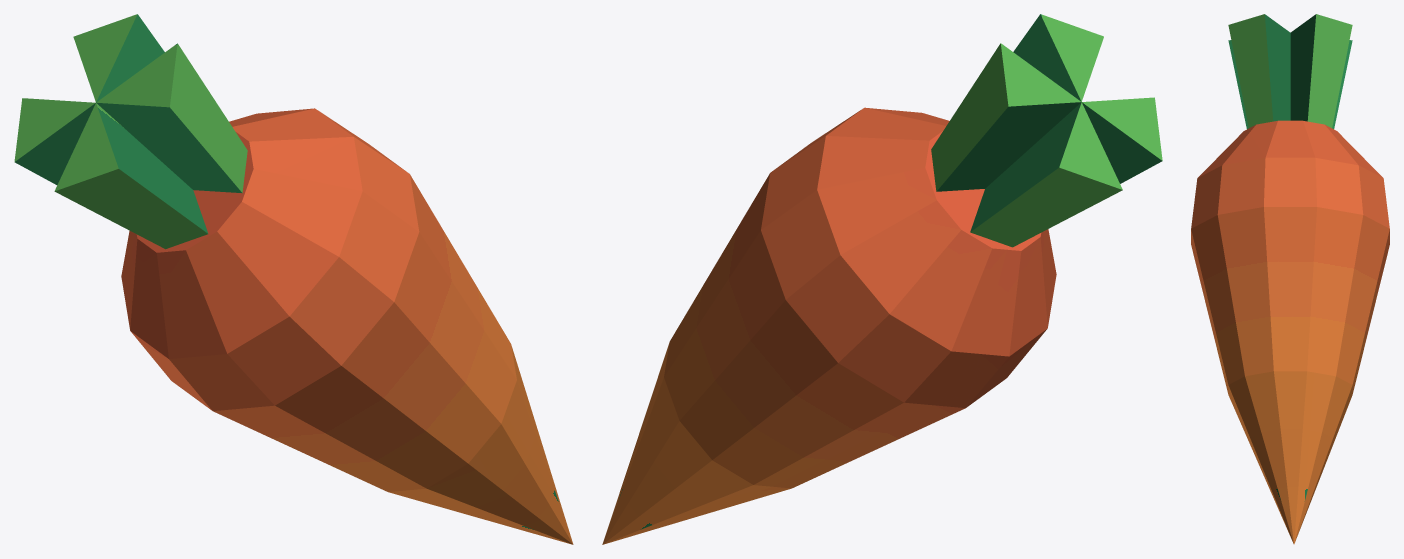
The model's file is carrot-optimized.glb.
The picture shows the model from 3 angles, left to right: view 1: azimuth 30°, elevation 25°; view 2: azimuth 150°, elevation 25°; view 3: azimuth 270°, elevation 25°; orthographic projection. The views are drawn at different scales.
Parts seen in each view (by area): view 1: cylinder; view 2: cylinder; view 3: cylinder.
Boxes of the visible parts, x1,y1,x2,y2 form: cylinder: [14, 14, 573, 544]; cylinder: [602, 14, 1162, 544]; cylinder: [1191, 14, 1389, 544].
Bounding box in the file's own units: 0.6585 × 0.7206 × 0.325.
Materials: 1 (1 with a texture image).
